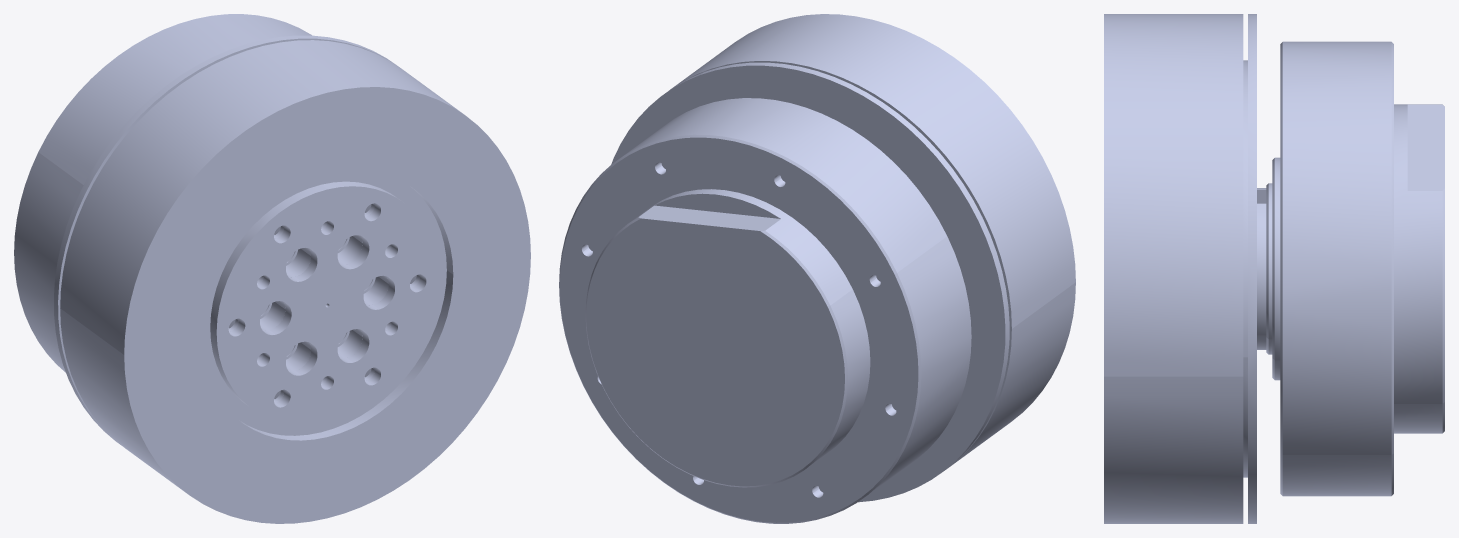
File: svej-assembly.glb
The picture shows the model from 3 angles, left to right: view 1: azimuth 30°, elevation 25°; view 2: azimuth 150°, elevation 25°; view 3: azimuth 270°, elevation 25°; orthographic projection. The views are drawn at different scales.
Visible parts, largest first — view 1: empty_2, empty_6, empty_5, empty_4; view 2: empty_5, empty_2, empty_4; view 3: empty_5, empty_2, empty_4, empty_13, empty_8.
Boxes of the visible parts, <box> form: empty_2: <box>60,40,530,523</box>; empty_6: <box>210,181,438,424</box>; empty_5: <box>14,14,311,372</box>; empty_4: <box>54,35,398,445</box>; empty_5: <box>559,98,971,523</box>; empty_2: <box>670,14,1075,466</box>; empty_4: <box>611,62,1009,502</box>; empty_5: <box>1266,41,1444,496</box>; empty_2: <box>1104,14,1243,523</box>; empty_4: <box>1248,14,1256,523</box>; empty_13: <box>1243,60,1247,477</box>; empty_8: <box>1257,188,1266,349</box>.
Size of the model in its own units: 110 by 110 by 73.5.
